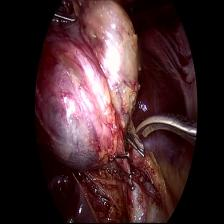Scissors: (135, 106, 199, 149)
